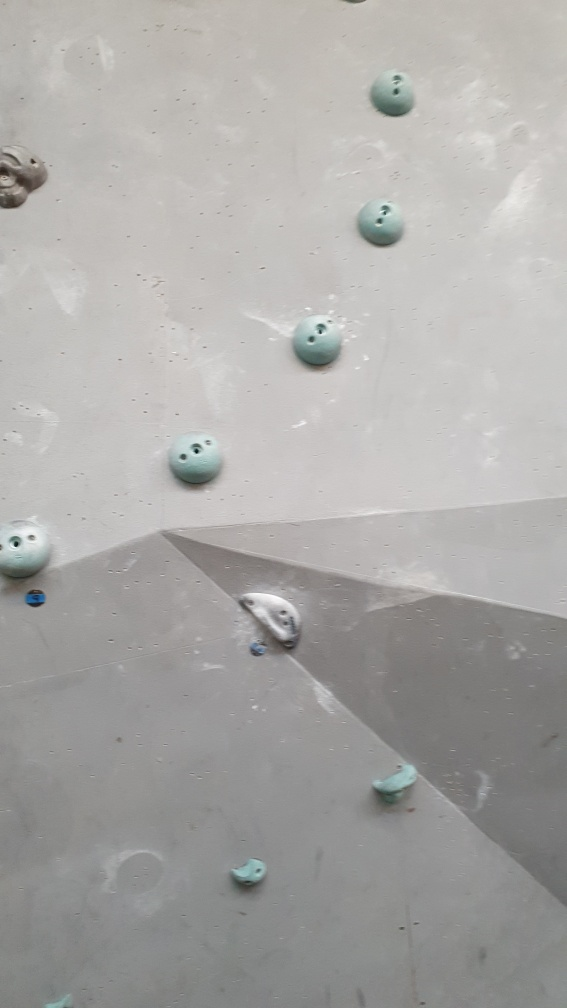Hand Start: (21, 585, 51, 615), (245, 636, 272, 660)
Jug: (1, 141, 56, 209), (373, 764, 416, 811)
Sloper: (166, 428, 232, 486), (1, 517, 60, 581), (291, 307, 346, 374), (364, 63, 423, 120), (357, 199, 410, 250)
